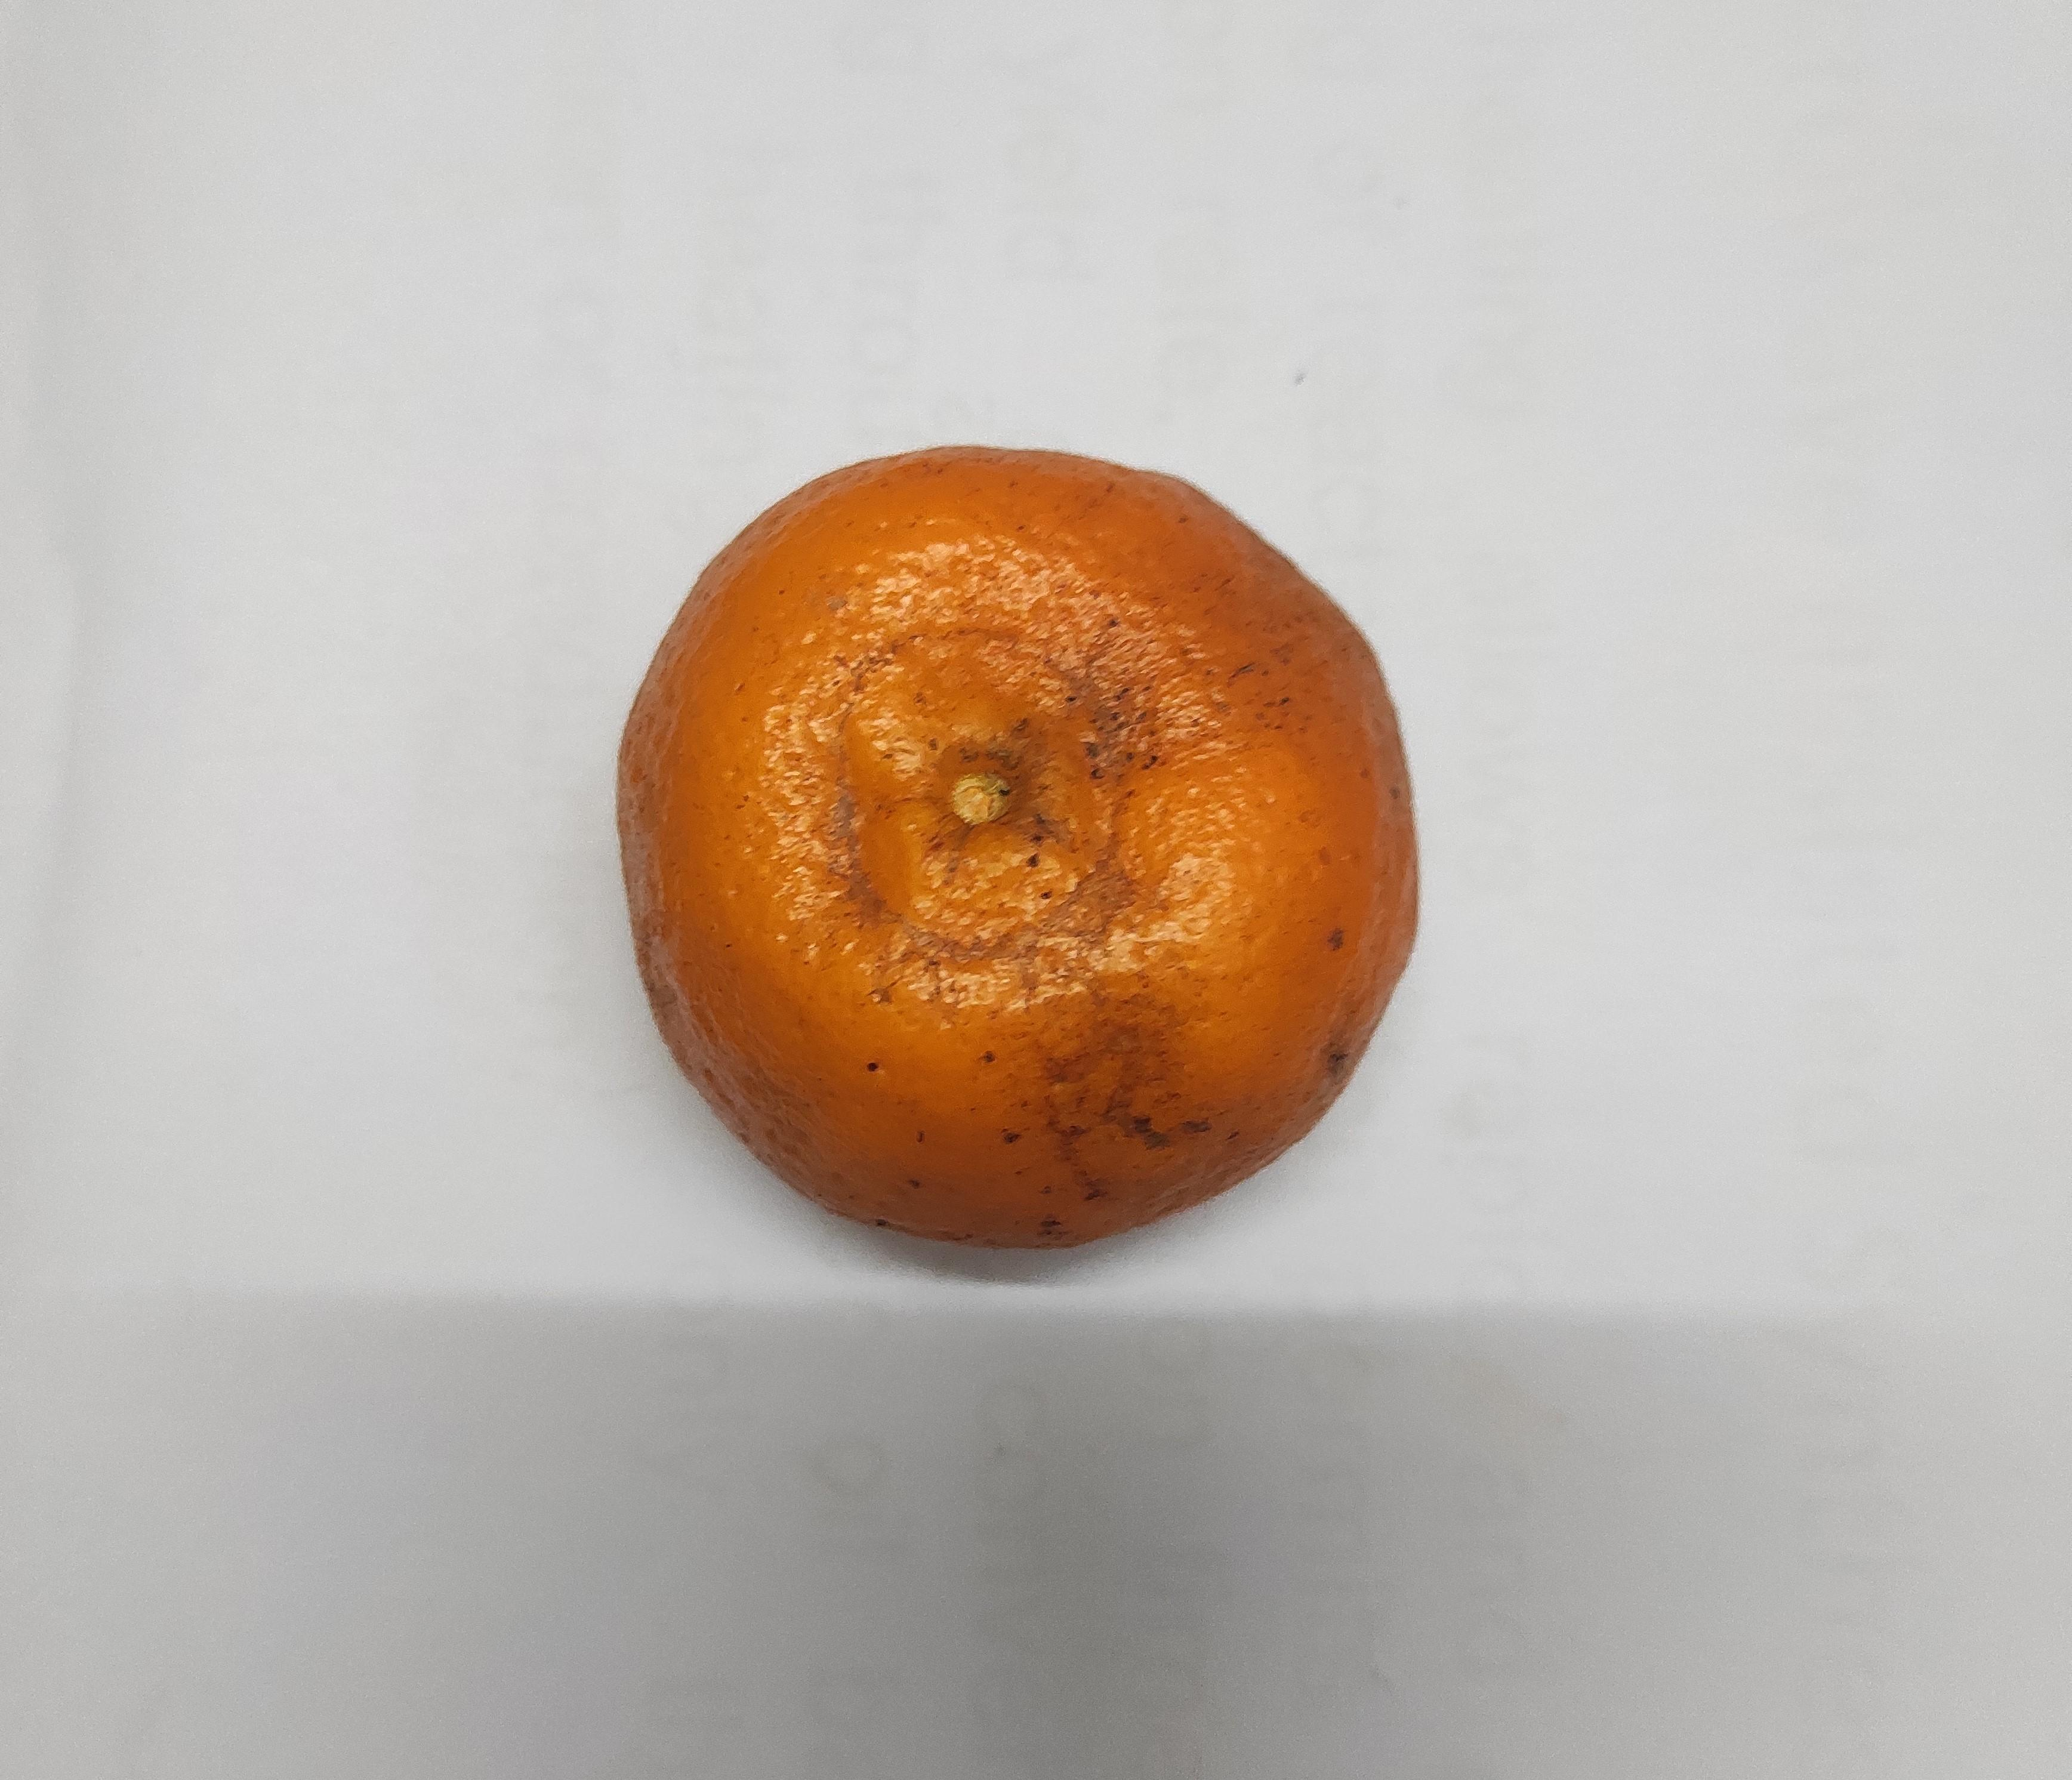Unripe: (633, 430, 1415, 1200)
